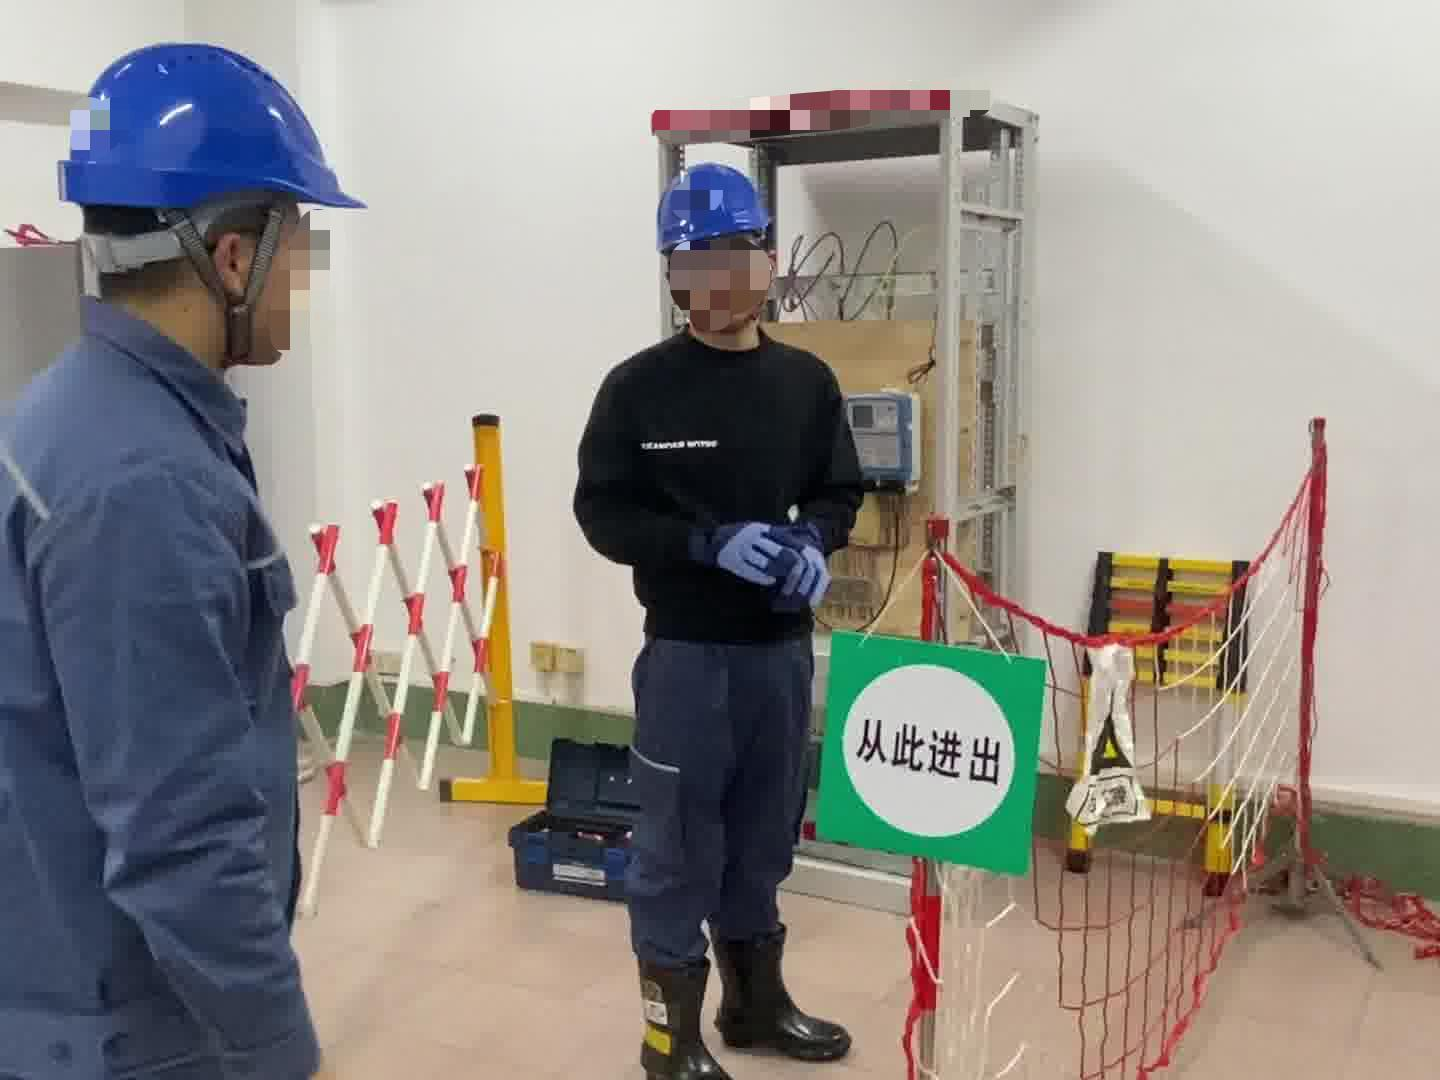halt: (51, 39, 372, 369), (654, 163, 785, 349)
inear: (184, 202, 289, 345)
